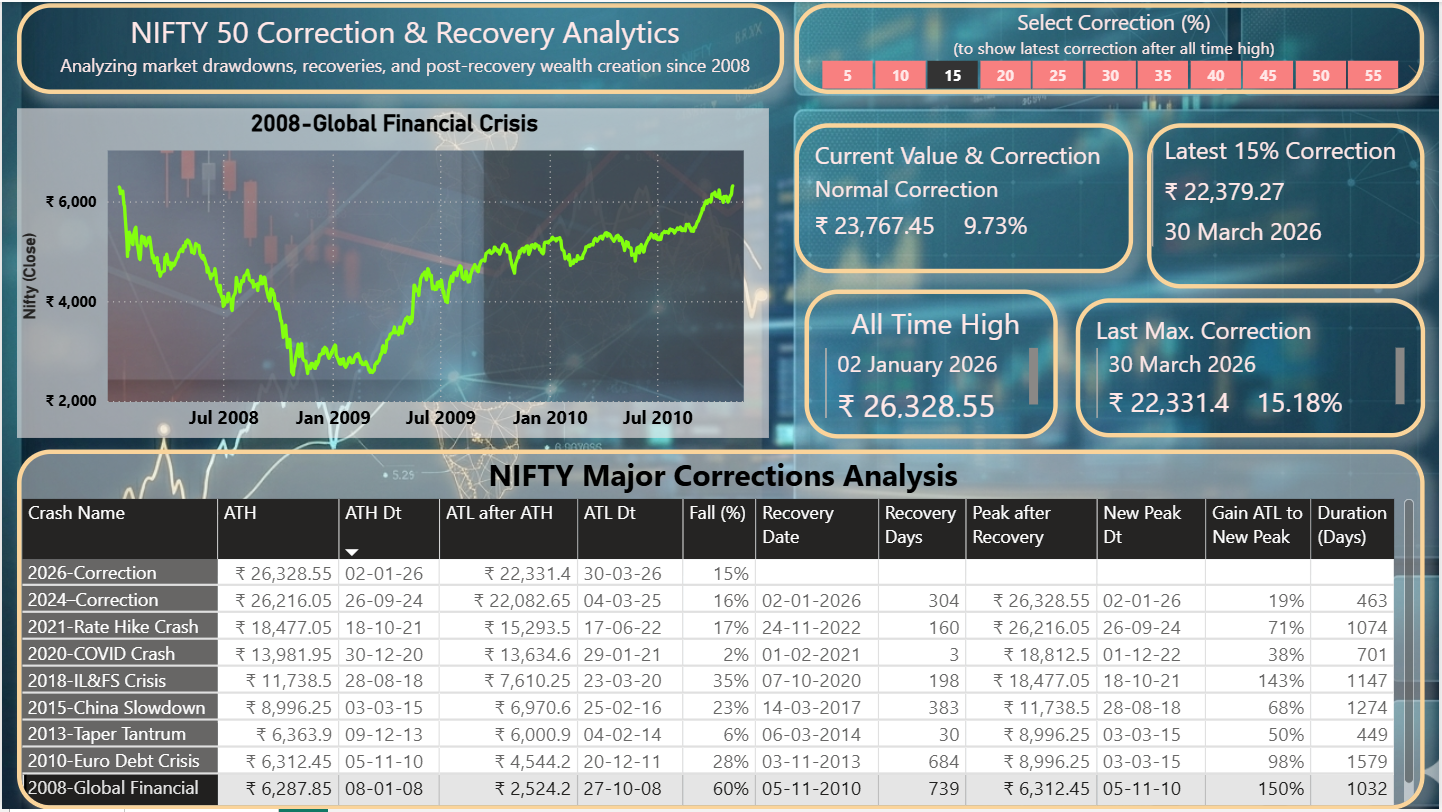

What the dashboard file says about the page in this screenshot:
{"tool":"powerbi","page":{"name":"NIFTY_50 ","canvas":[1280,720],"ordinal":0},"visuals":[{"type":"multiRowCard","title":"All Time High","fields":{"Values":["Nifty.All Time High","Nifty.All Time High Dt"]},"box":[715.2,255.5,225.8,132.5],"z":0},{"type":"multiRowCard","title":"Last Max. Correction","fields":{"Values":["Nifty.Correction","Nifty.Correction Dt","Nifty.correction (%)"]},"box":[955.8,263.6,310.9,124.4],"z":1000},{"type":"multiRowCard","title":"Current Value & Correction","fields":{"Values":["Nifty.Current Value","Nifty.Current Correction","Nifty.Play Book"]},"box":[705.7,108.2,301.5,133.8],"z":2000},{"type":"slicer","title":"Select Correction (%)","fields":{"Values":["Fall From ATH.Fall Percentage"]},"box":[705.8,1.2,561,80.8],"z":3000},{"type":"multiRowCard","fields":{"Values":["Fall From ATH.Header","Nifty.Fall Value","Nifty.Date of Fall"]},"box":[1019.4,108.2,247.4,147.4],"z":4000},{"type":"pivotTable","title":"NIFTY Major Corrections Analysis","fields":{"Rows":["Crash History.Crash Name"],"Values":["Nifty.ATH","Nifty.ATH Dt","Nifty.ATL after ATH","Nifty.ATL Dt","Nifty.Max fall","Nifty.Recovery Date","Nifty.Recovery Days","Nifty.Peak after Recovery","Nifty.New Peak Dt","Nifty.Gain ATL to New Peak","Nifty.Duration"]},"box":[13.5,398.8,1253.2,320.4],"z":5000},{"type":"card","title":"NIFTY 50 Correction & Recovery Analytics","fields":{"Values":["Crash History.Title"]},"box":[13.4,1.3,683.2,80.7],"z":6000},{"type":"lineChart","title":"Nifty (Close) by Date","fields":{"Y":["Sum(Nifty.Close)"],"Category":["Nifty.Date"]},"box":[13.5,94.6,669.2,293.4],"z":7000}]}

Visuals, with their boxes in screenshot pixels (x1, y1, x2, y2), scaled from the page's 1280x720 canvas onto the 1442x812 screenshot:
"All Time High" multiRowCard: rect(806, 288, 1060, 438)
"Last Max. Correction" multiRowCard: rect(1077, 297, 1427, 438)
"Current Value & Correction" multiRowCard: rect(795, 122, 1135, 273)
"Select Correction (%)" slicer: rect(795, 1, 1427, 92)
multiRowCard - Fall From ATH.Header x Nifty.Fall Value: rect(1148, 122, 1427, 288)
"NIFTY Major Corrections Analysis" pivotTable: rect(15, 450, 1427, 811)
"NIFTY 50 Correction & Recovery Analytics" card: rect(15, 1, 785, 92)
"Nifty (Close) by Date" lineChart: rect(15, 107, 769, 438)
